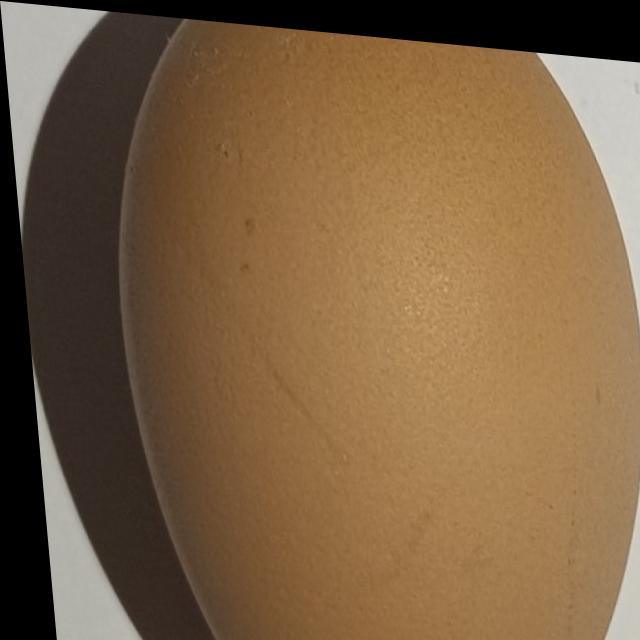fresh: (90, 7, 640, 640)
